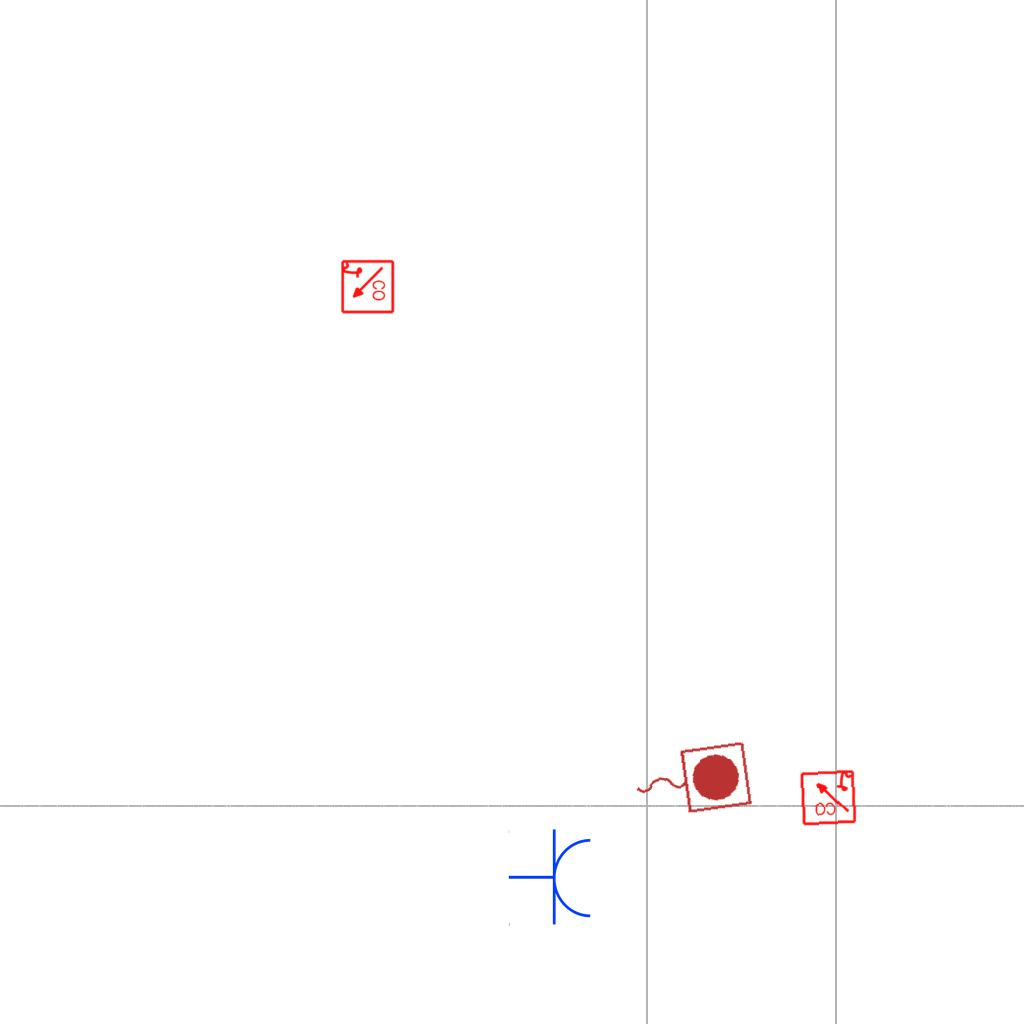ROA_Rauchmelder_optisch_mit_Signalgeber_(Sockelsirene): (798, 767, 858, 827), (339, 259, 395, 315)
Schukosteckdose_einfach: (508, 828, 595, 928)
Zugtaster: (625, 735, 757, 825)
